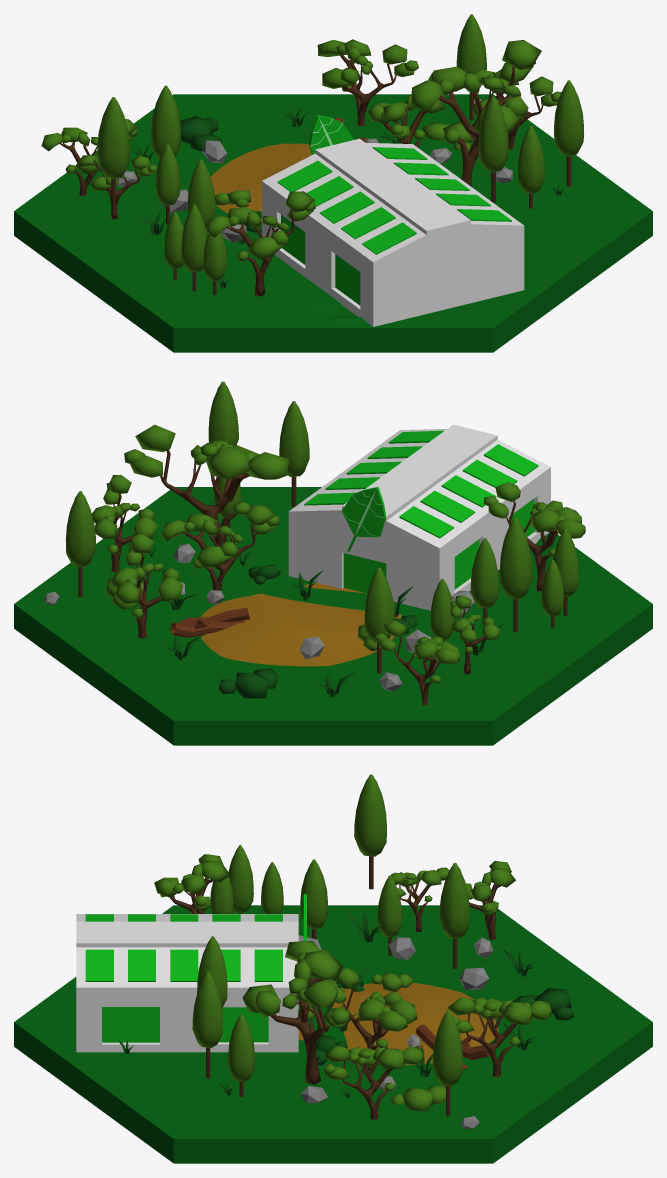
Rendered from PlantHarvester_Tile.fbx.
3 views of the same model, one above another, from view 1: azimuth 30°, elevation 25°; view 2: azimuth 150°, elevation 25°; view 3: azimuth 270°, elevation 25° (orthographic).
Visible parts, largest first — view 1: Cube; view 2: Cube; view 3: Cube.
Boxes of the visible parts, x1,y1,x2,y2 form: Cube: (14, 14, 652, 352); Cube: (14, 381, 652, 745); Cube: (14, 774, 652, 1163).
Bounding box in the file's own units: 10026 × 3474 × 11577.
